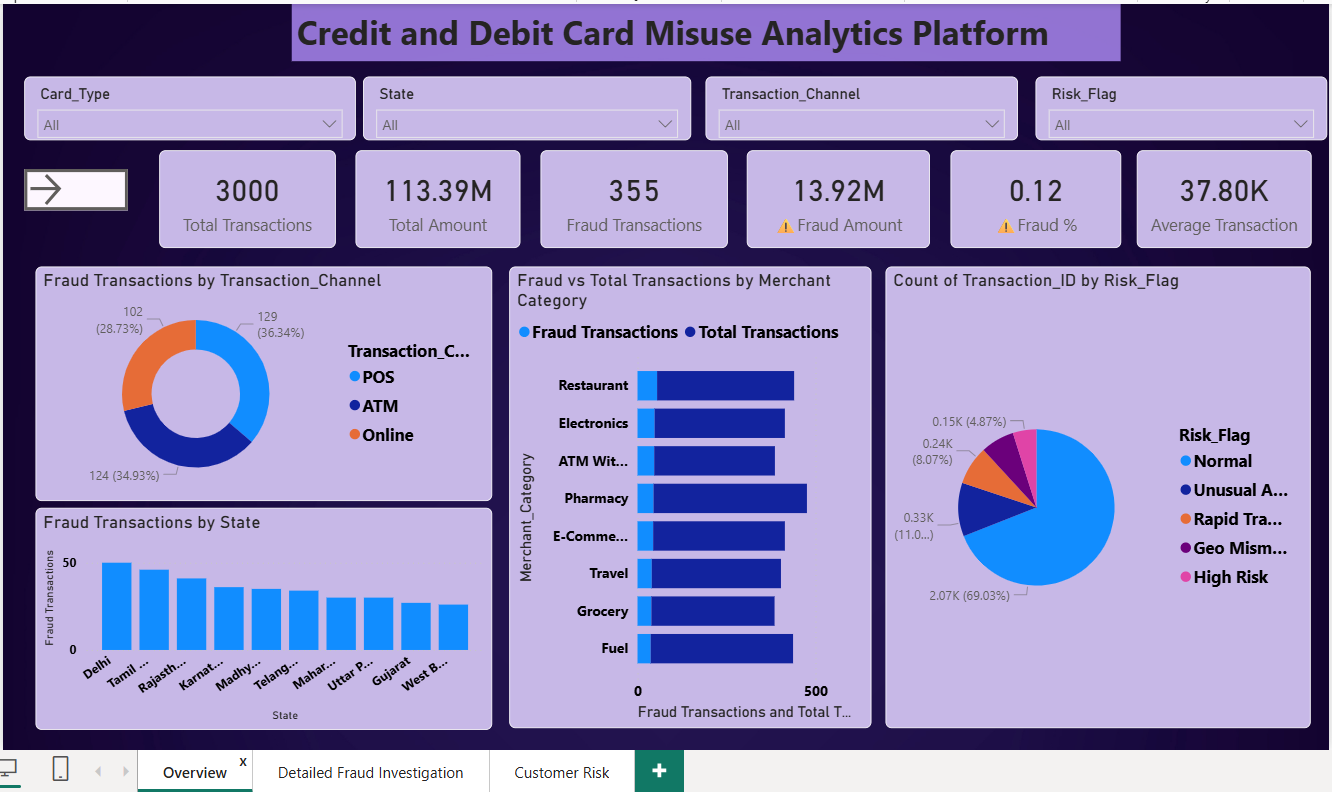

Layout of this report page (visuals, bound fields, positions):
{"tool":"powerbi","page":{"name":"Overview","canvas":[1280,720],"ordinal":0},"visuals":[{"type":"card","fields":{"Values":["Sheet1.Total Transactions"]},"box":[150.9,141.3,170.2,94.7],"z":0},{"type":"card","fields":{"Values":["Sheet1.Total Amount"]},"box":[340.3,141.3,159.2,94.7],"z":1000},{"type":"card","fields":{"Values":["Sheet1.Fraud Transactions"]},"box":[518.7,141.3,181.1,94.7],"z":2000},{"type":"card","fields":{"Values":["Sheet1.Fraud Amount"]},"box":[717.7,141.3,177,94.7],"z":3000},{"type":"card","fields":{"Values":["Sheet1.Fraud %"]},"box":[913.9,141.3,164.7,94.7],"z":4000},{"type":"card","fields":{"Values":["Sheet1.Average Transaction"]},"box":[1093.7,141.3,168.8,94.7],"z":5000},{"type":"columnChart","fields":{"Category":["Sheet1.State"],"Y":["Sheet1.Fraud Transactions"]},"box":[31.6,485.8,440.5,214.1],"z":6000},{"type":"barChart","title":"Fraud vs Total Transactions by Merchant Category","fields":{"Category":["Sheet1.Merchant_Category"],"Y":["Sheet1.Fraud Transactions","Sheet1.Total Transactions"]},"box":[488.5,253.9,349.9,446],"z":7000},{"type":"donutChart","fields":{"Category":["Sheet1.Transaction_Channel"],"Y":["Sheet1.Fraud Transactions"]},"box":[31.6,253.9,440.5,226.4],"z":8000},{"type":"pieChart","fields":{"Category":["Sheet1.Risk_Flag"],"Y":["Count(Sheet1.Transaction_ID)"]},"box":[852.1,253.9,410.3,446],"z":9000},{"type":"slicer","fields":{"Values":["Sheet1.Card_Type"]},"box":[20.6,70,319.7,61.7],"z":10000},{"type":"slicer","fields":{"Values":["Sheet1.State"]},"box":[347.2,70,317,61.7],"z":11000},{"type":"slicer","fields":{"Values":["Sheet1.Transaction_Channel"]},"box":[677.9,70,301.9,61.7],"z":12000},{"type":"slicer","fields":{"Values":["Sheet1.Risk_Flag"]},"box":[996.2,70,281.3,61.7],"z":13000},{"type":"textbox","box":[278.6,0,800,54.9],"z":14000},{"type":"actionButton","box":[20.6,159.2,100.2,39.8],"z":15000}]}

Visuals, with their boxes in screenshot pixels (x1, y1, x2, y2):
card - Sheet1.Total Transactions: detection(143, 147, 324, 248)
card - Sheet1.Total Amount: detection(345, 147, 514, 248)
card - Sheet1.Fraud Transactions: detection(535, 147, 727, 248)
card - Sheet1.Fraud Amount: detection(746, 147, 935, 248)
card - Sheet1.Fraud %: detection(955, 147, 1130, 248)
card - Sheet1.Average Transaction: detection(1146, 147, 1326, 248)
columnChart - Sheet1.State x Sheet1.Fraud Transactions: detection(16, 513, 485, 741)
"Fraud vs Total Transactions by Merchant Category" barChart: detection(502, 267, 875, 741)
donutChart - Sheet1.Transaction_Channel x Sheet1.Fraud Transactions: detection(16, 267, 485, 508)
pieChart - Sheet1.Risk_Flag x Count(Sheet1.Transaction_ID): detection(889, 267, 1326, 741)
slicer - Sheet1.Card_Type: detection(5, 71, 345, 137)
slicer - Sheet1.State: detection(352, 71, 689, 137)
slicer - Sheet1.Transaction_Channel: detection(704, 71, 1025, 137)
slicer - Sheet1.Risk_Flag: detection(1043, 71, 1331, 137)
textbox: detection(279, 0, 1130, 55)
actionButton: detection(5, 166, 111, 208)
